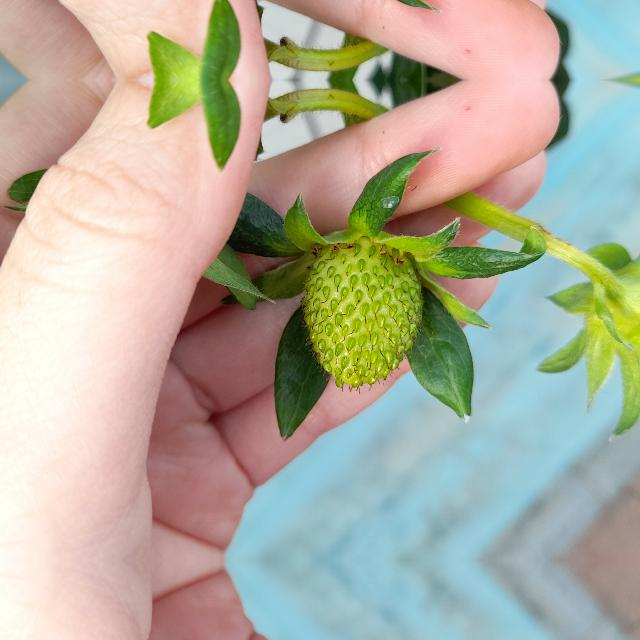Health_25: (300, 236, 424, 394)
